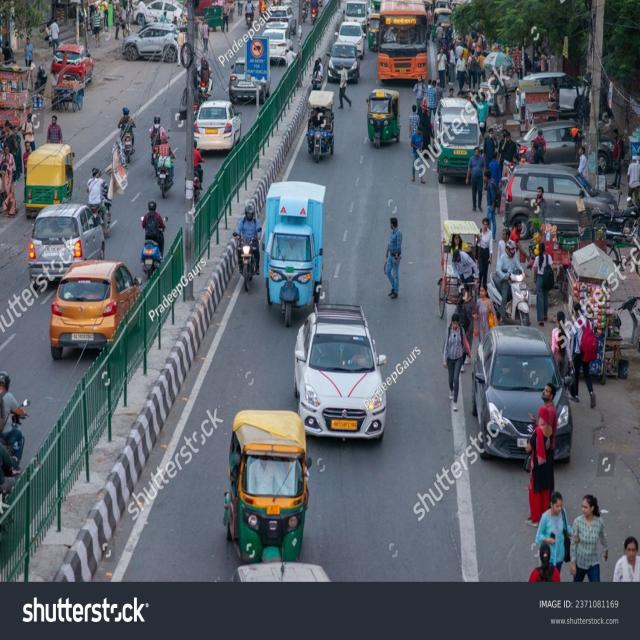Vehicles: (285, 297, 403, 451), (470, 323, 576, 479), (223, 398, 313, 572), (504, 162, 625, 260), (264, 174, 324, 329), (48, 262, 154, 349), (29, 194, 106, 290), (428, 94, 490, 188), (375, 1, 436, 89), (299, 87, 348, 171), (25, 148, 85, 214), (192, 99, 242, 154), (365, 84, 403, 154), (328, 40, 364, 88), (237, 233, 260, 286), (112, 124, 140, 164), (338, 22, 368, 58), (140, 243, 168, 274), (158, 165, 178, 208), (433, 6, 455, 44), (366, 13, 381, 51)
